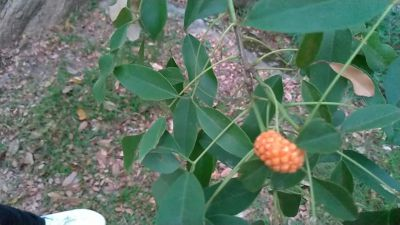eggs: (252, 128, 306, 174)
